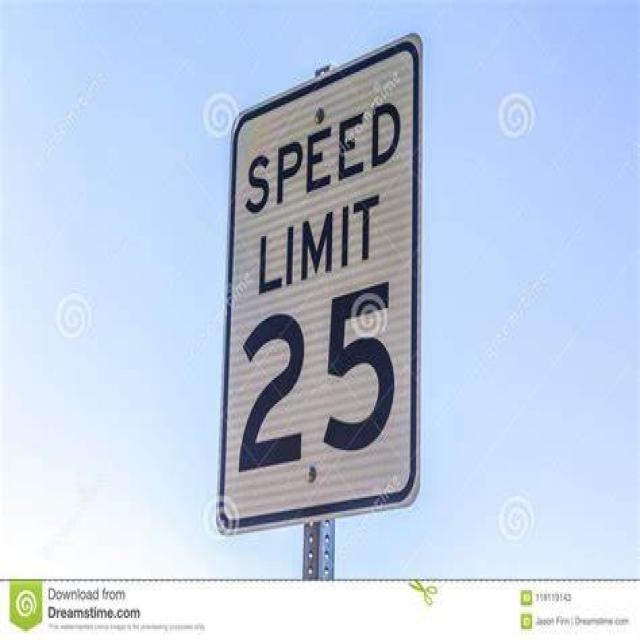speedLimit25: (210, 31, 423, 533)
